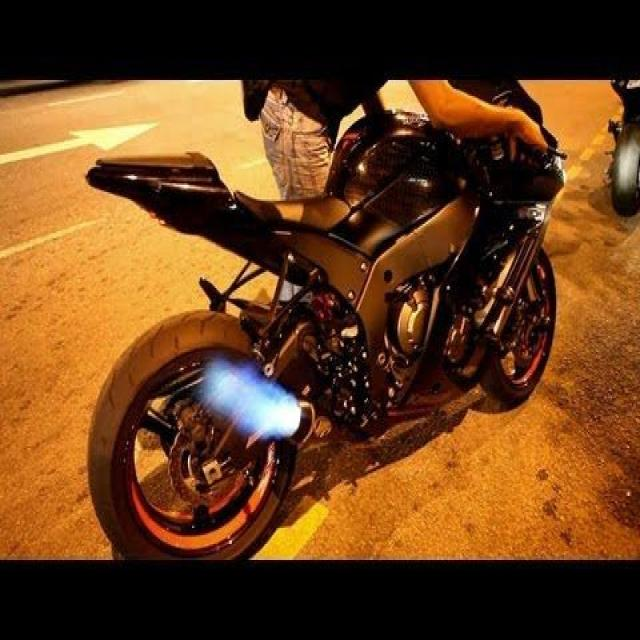fire: (203, 357, 299, 438)
